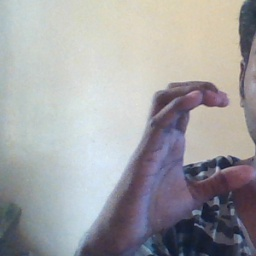C: (147, 78, 256, 206)
